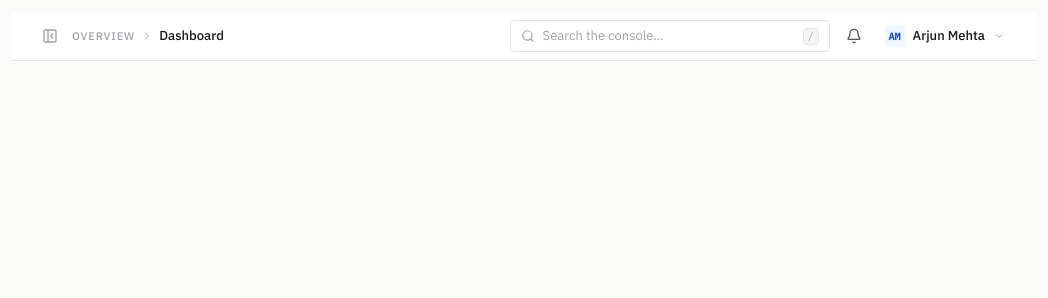
Test: Topbar › opens the user menu with session identity
Click the button with aria-label "Account menu".
click(945, 36)  # box [878,20,1012,52]
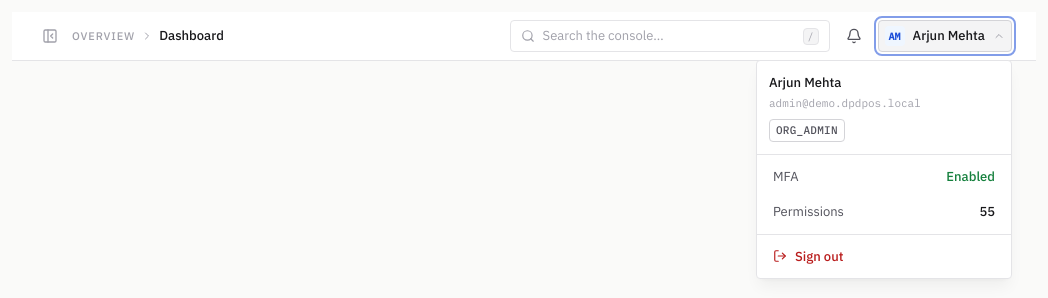
Check: the 1st text "Arjun Mehta" is shown, box [913,26,985,46]
Check: the text "admin@demo.dpdpos.local" is shown, box [769,96,921,110]
Check: the text "Enabled" is shown, box [946,166,995,186]
